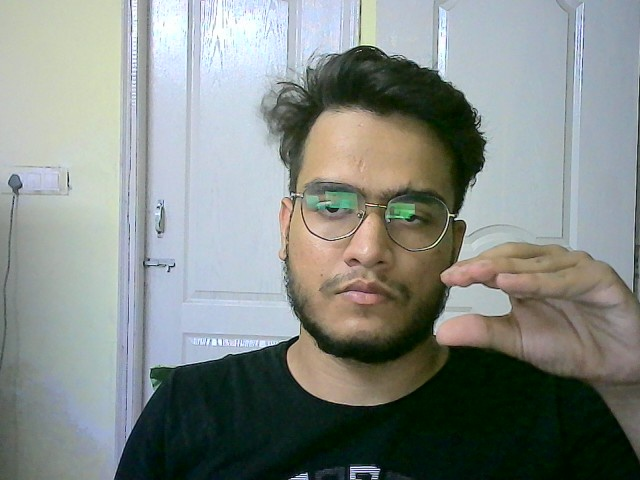No: (436, 241, 640, 391)
